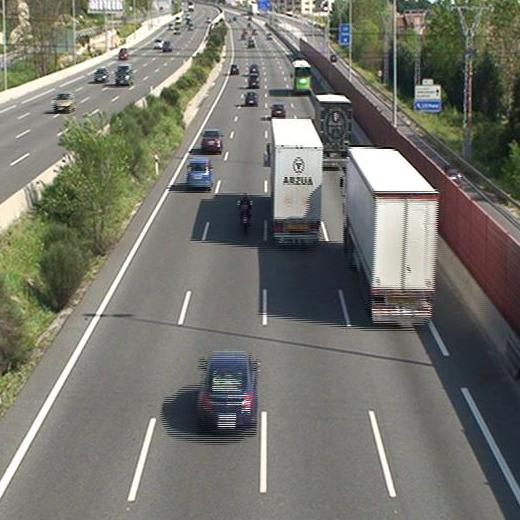bus: (292, 60, 311, 94)
car: (199, 353, 258, 431), (186, 159, 212, 188), (202, 130, 221, 153), (271, 103, 287, 119), (245, 90, 258, 105), (247, 74, 259, 90), (229, 63, 239, 75), (249, 64, 260, 73)
motorcycle: (237, 193, 252, 233)
small-truck: (317, 94, 350, 168)
truck: (343, 148, 438, 324), (267, 119, 321, 243)
